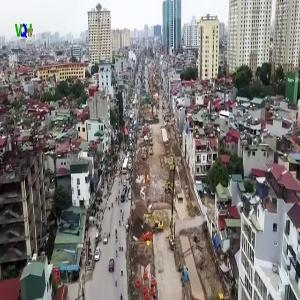drone: (234, 165, 300, 231)
